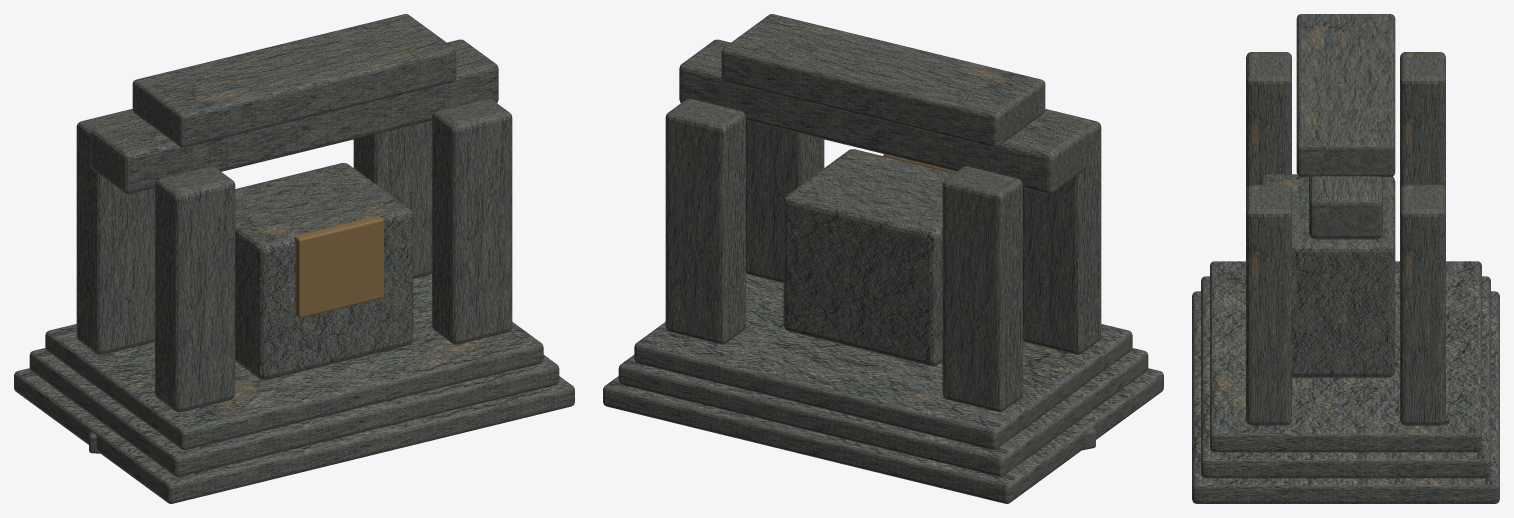
Rendered from AF_WeatheredShrine_PBR.glb.
3 renders of one model, left to right at view 1: azimuth 30°, elevation 25°; view 2: azimuth 150°, elevation 25°; view 3: azimuth 270°, elevation 25°, orthographic.
Visible parts, largest first — view 1: AF_WeatheredShrine_PBR; view 2: AF_WeatheredShrine_PBR; view 3: AF_WeatheredShrine_PBR.
Part boxes in pixels (x1=…): AF_WeatheredShrine_PBR: x1=14, y1=14, x2=574, y2=503; AF_WeatheredShrine_PBR: x1=603, y1=14, x2=1163, y2=503; AF_WeatheredShrine_PBR: x1=1192, y1=14, x2=1499, y2=503.
Bounding box in the file's own units: 3.64 × 2.86 × 2.4.
3 materials, 2 textured.
